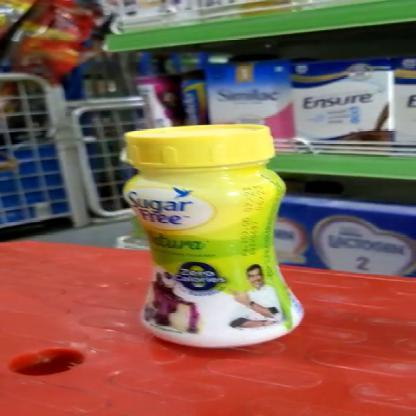SUGAR FREE NATURA_ POWDER_CONC_100G: (122, 120, 311, 351)
